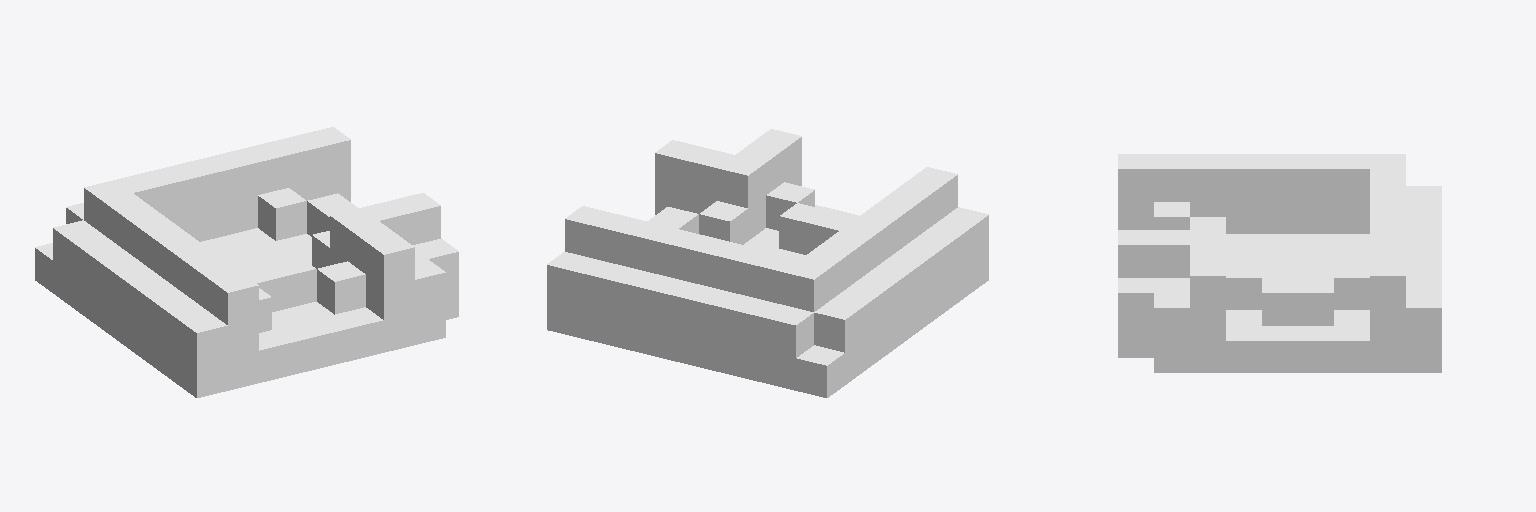
File: ConveyorRight.obj
3 views of the same model, side by side, from view 1: azimuth 30°, elevation 25°; view 2: azimuth 150°, elevation 25°; view 3: azimuth 270°, elevation 25° (orthographic).
Visible parts, largest first — view 1: object 1; view 2: object 1; view 3: object 1.
Part boxes in pixels (bbox=[...]): object 1: bbox=[35, 127, 458, 397]; object 1: bbox=[547, 129, 988, 397]; object 1: bbox=[1118, 154, 1441, 372].
Size of the model in its own units: 0.9 by 0.3 by 0.9.